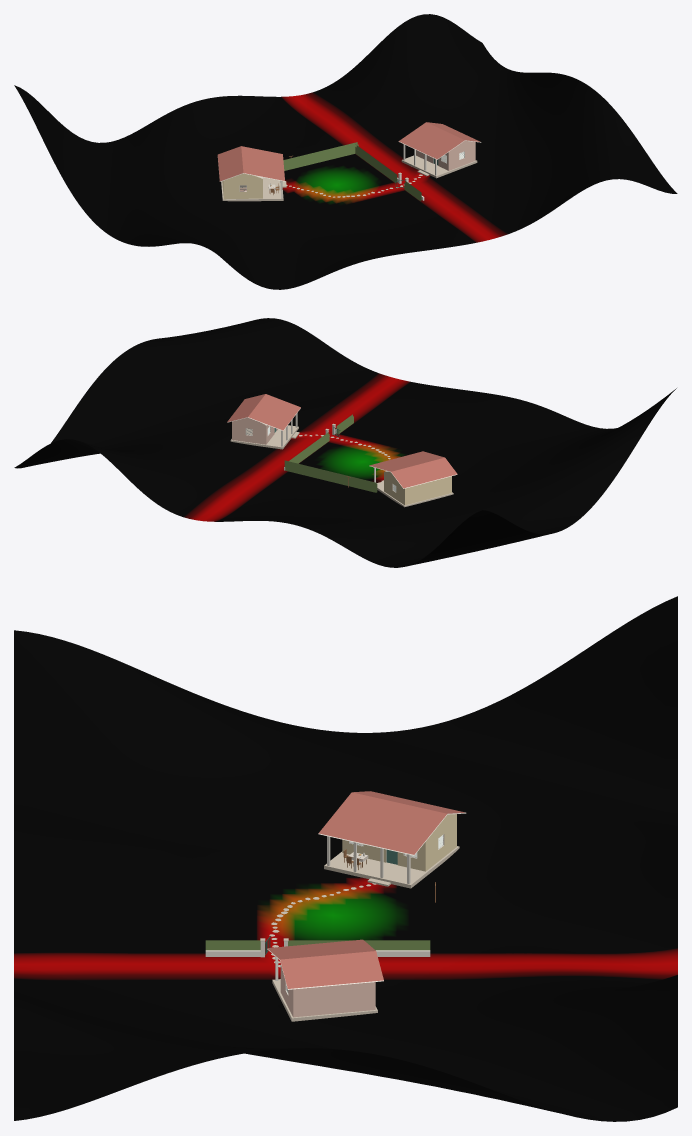
File: set.glb
The picture shows the model from 3 angles, top to bottom: view 1: azimuth 30°, elevation 25°; view 2: azimuth 150°, elevation 25°; view 3: azimuth 270°, elevation 25°; orthographic projection. The views are drawn at different scales.
Parts seen in each view (by area): view 1: ground, house_mila, house_ninon, garden; view 2: ground, house_mila, house_ninon, garden; view 3: ground, house_mila, house_ninon, garden.
Part boxes in pixels (x1=…): ground: x1=14, y1=14, x2=677, y2=289; house_mila: x1=217, y1=146, x2=286, y2=201; house_ninon: x1=398, y1=122, x2=481, y2=178; garden: x1=283, y1=142, x2=424, y2=201; ground: x1=14, y1=318, x2=676, y2=567; house_mila: x1=369, y1=451, x2=457, y2=507; house_ninon: x1=227, y1=394, x2=300, y2=449; garden: x1=284, y1=414, x2=390, y2=492; ground: x1=14, y1=596, x2=677, y2=1121; house_mila: x1=318, y1=791, x2=466, y2=888; house_ninon: x1=267, y1=939, x2=383, y2=1021; garden: x1=205, y1=882, x2=435, y2=967.
Size of the model in its own units: 72 by 11.86 by 52.
